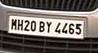0: (29, 18, 36, 31)
2: (22, 18, 29, 31)
4: (54, 21, 61, 33), (61, 21, 67, 34)
5: (74, 22, 81, 34)
6: (67, 22, 74, 34)
B: (38, 19, 44, 32)
H: (16, 18, 23, 30)
M: (9, 16, 16, 30)
Y: (44, 20, 51, 33)
